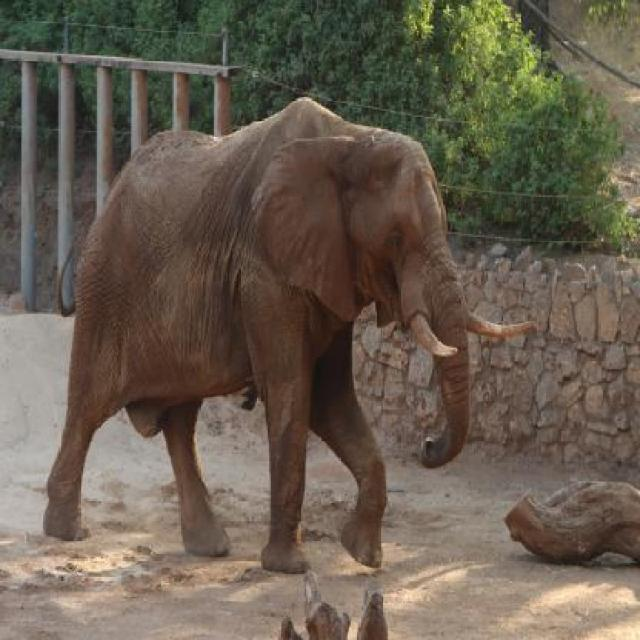Elephant: (41, 96, 538, 582)
